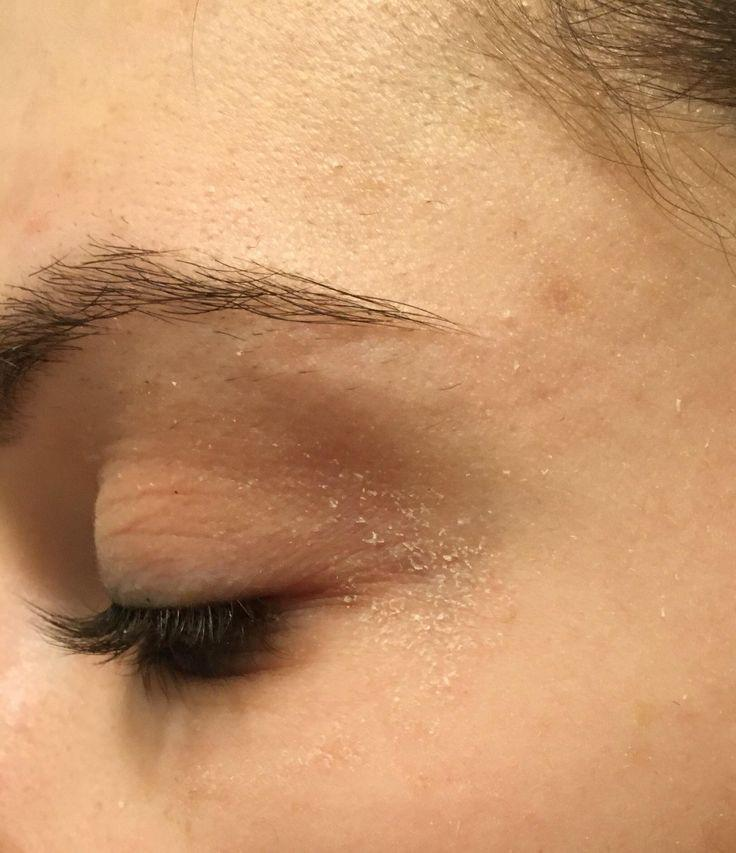Dry-Skin: (500, 240, 612, 355), (270, 65, 372, 180), (298, 715, 410, 800), (150, 52, 232, 148), (43, 172, 150, 245), (385, 495, 480, 570)
